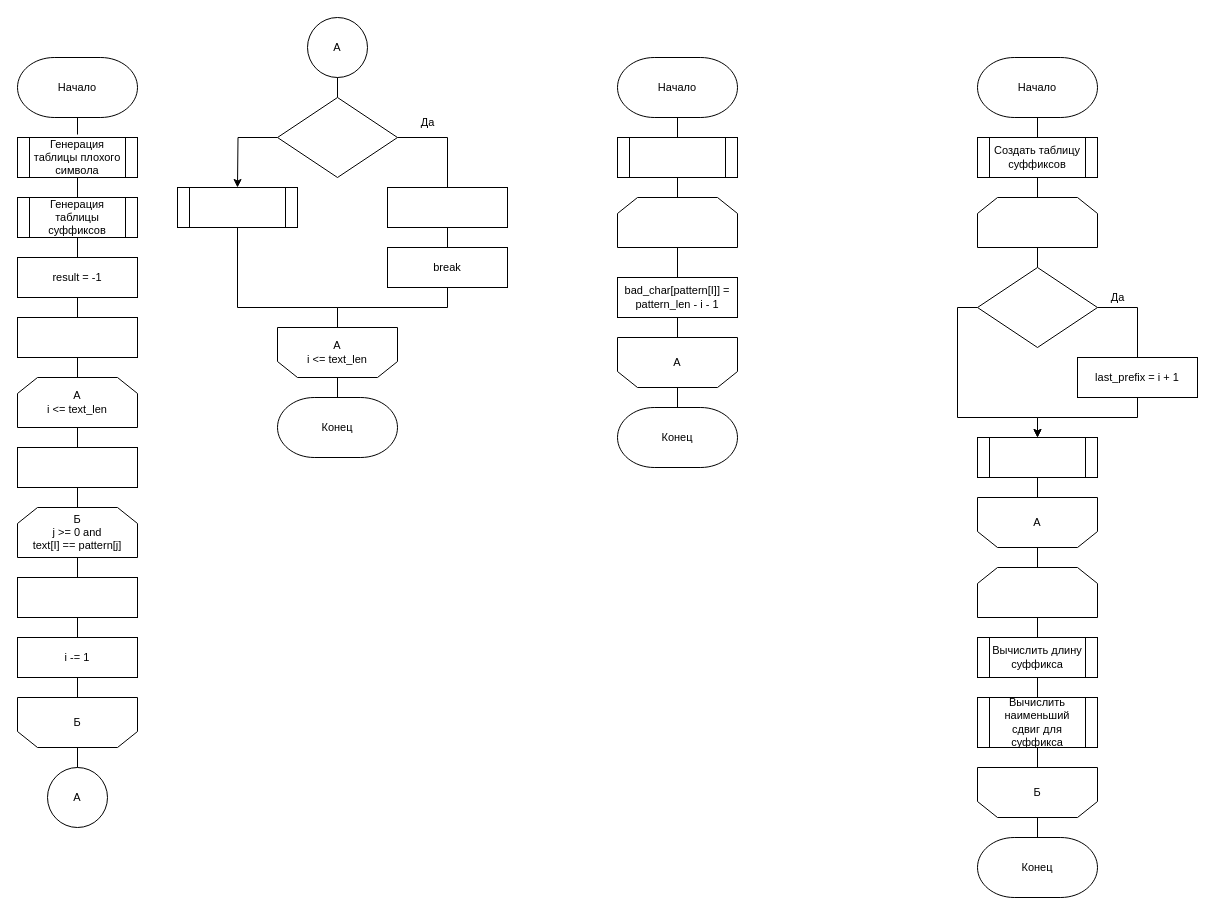
Some shapes in this 1215 by 915 pixel diagram are drawn without their labels. Here are the shapes that lost their labels. From the top down, the centre of each, then its label:
At [337,137]: "j = -1".
At [677,157]: "Создать словарь".
At [237,207]: "Выбор максимального смещения".
At [447,207]: "result = j".
At [677,222]: "А i < pattern_len - 1".
At [1037,222]: "А i = pattern_len - 1; i > -1".
At [1037,307]: "is_prefix(pattern,i+1)".
At [77,337]: "i = pattern_len - 1".
At [77,467]: "j = pattern_len - 1".
At [1037,457]: "Заполнить таблицу сдвигов".
At [77,597]: "j -= 1".
At [1037,592]: "Б i < pattern_len - 1".
